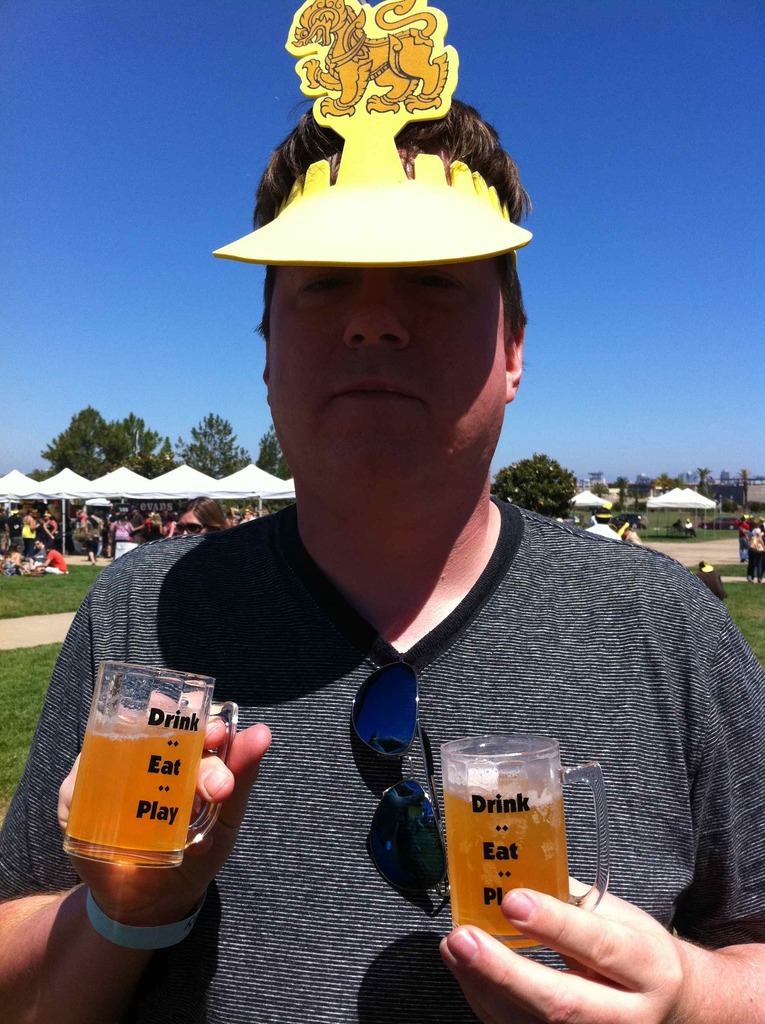Beer: (432, 741, 595, 941), (66, 707, 204, 864)
